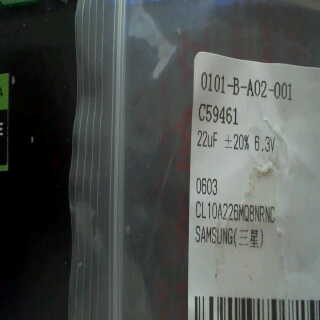22uF: (197, 127, 220, 152)
